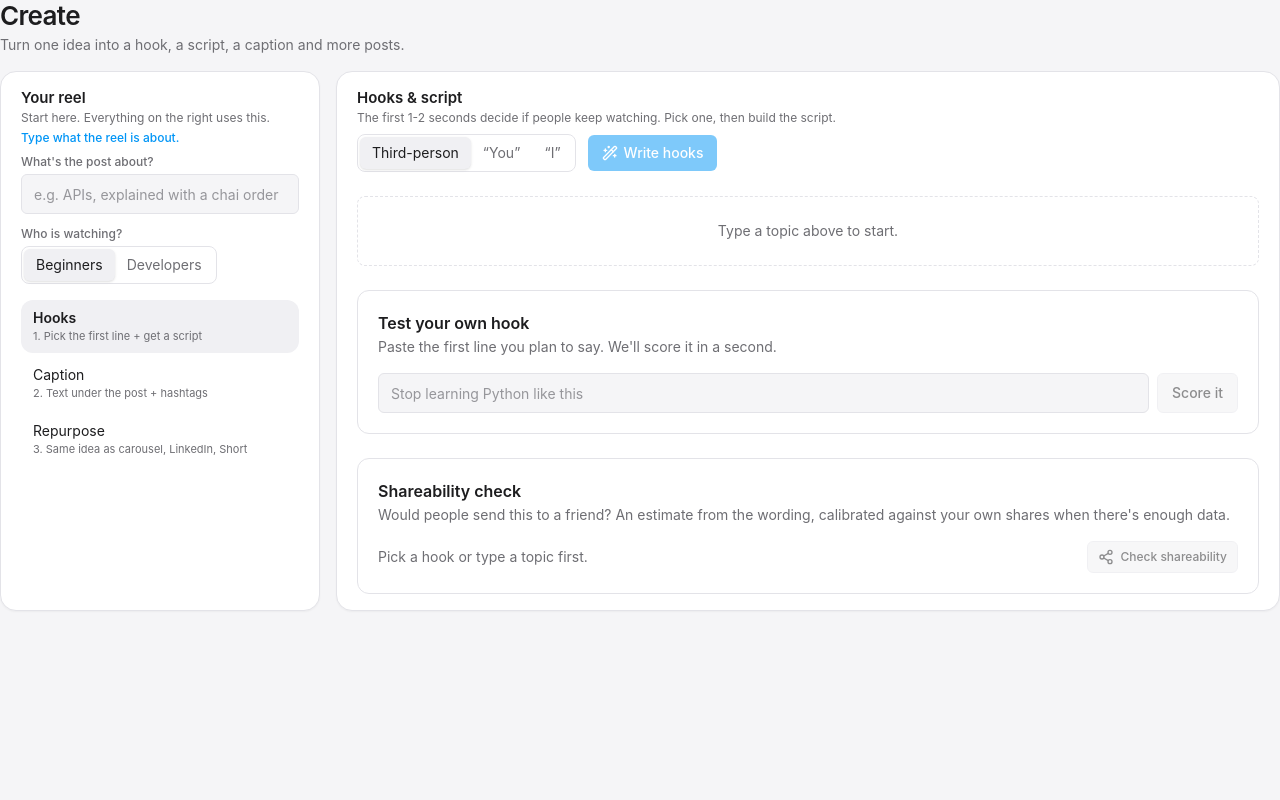
Create › caption preview shows '... more' and a character counter
In the field labelled "What's the post about?": (160, 194) left=21, top=174, right=299, bottom=214, type "APIs"
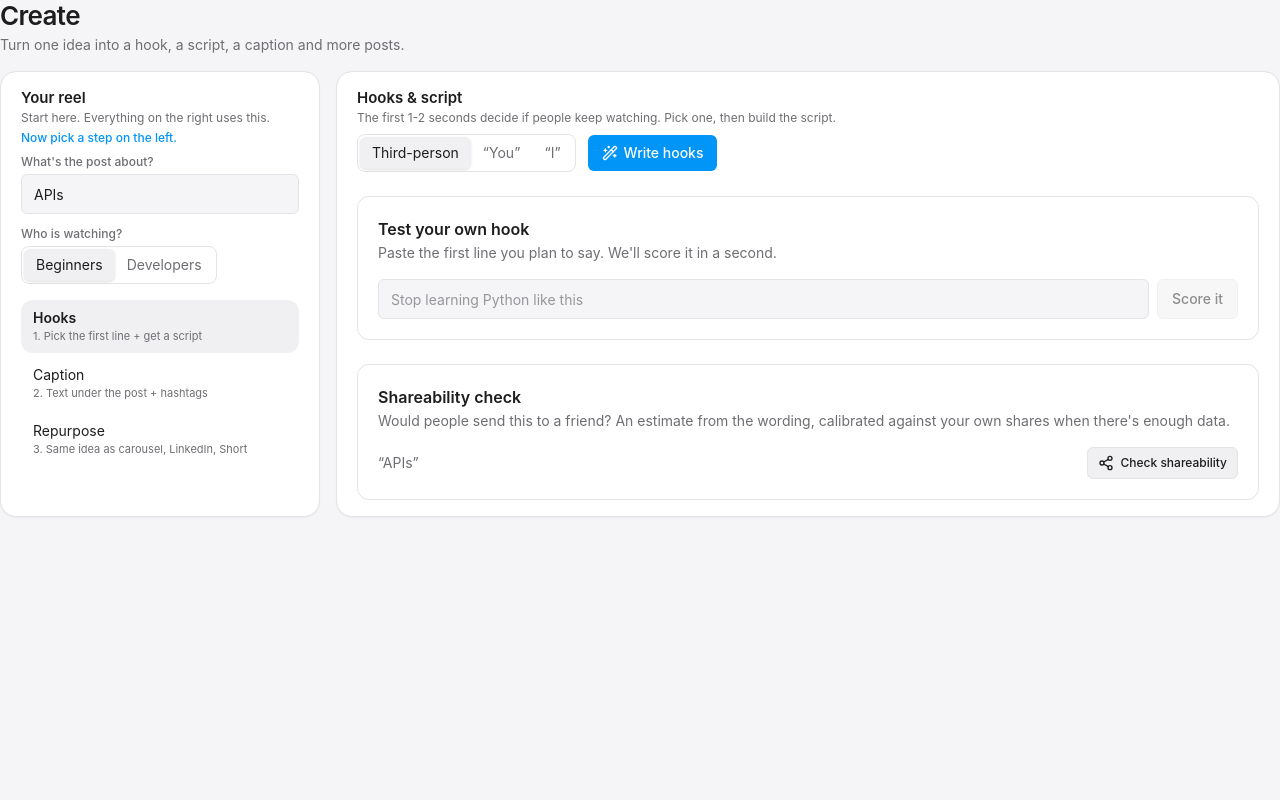
Click the tab "Caption": (160, 383) left=21, top=357, right=299, bottom=409
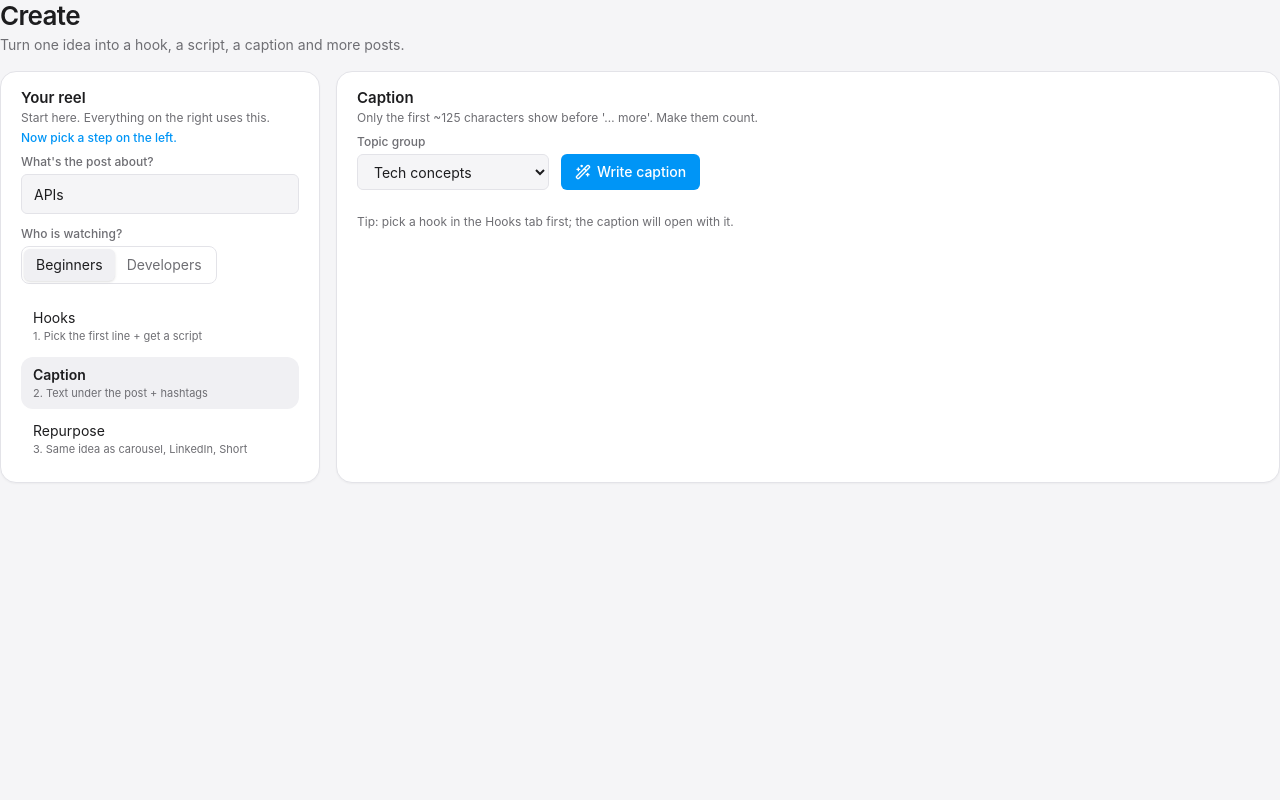
Click the button "Write caption": (631, 172) left=561, top=154, right=700, bottom=190
(page scrolled)
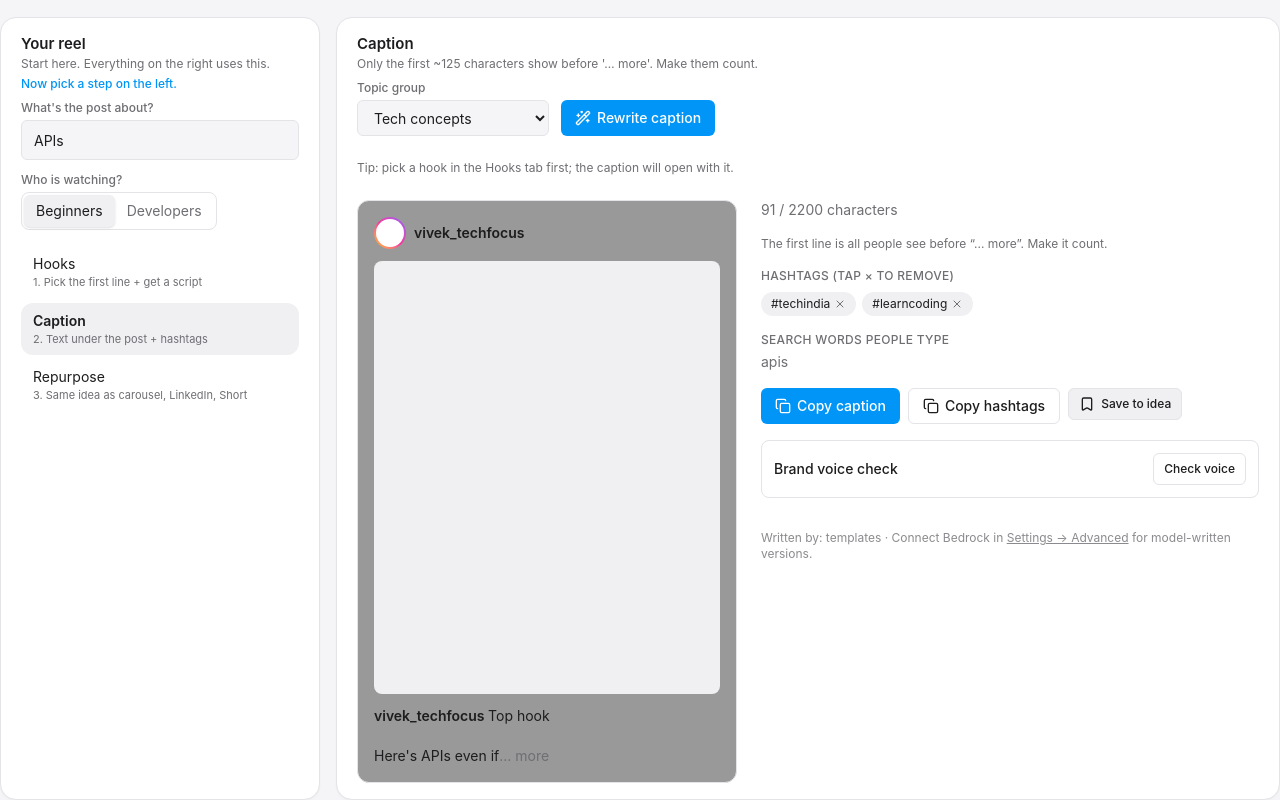
Result: the button "... more" is shown
Result: the text with test id "char-count" shows "/ 2200 characters" at left=761, top=201, right=898, bottom=218
Click the button "... more": (524, 756) left=499, top=746, right=549, bottom=766
(page scrolled)
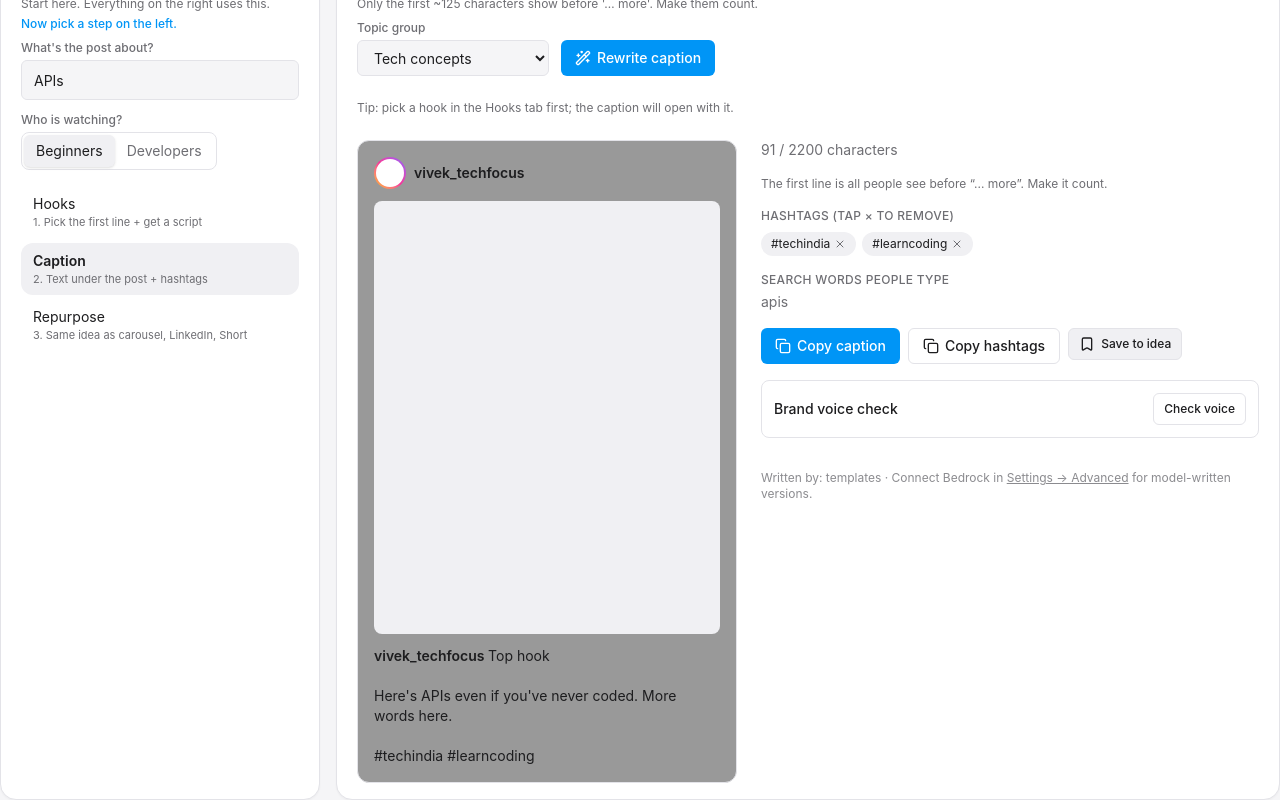
Result: the element with test id "ig-preview" shows "More words here." at left=374, top=647, right=676, bottom=764
